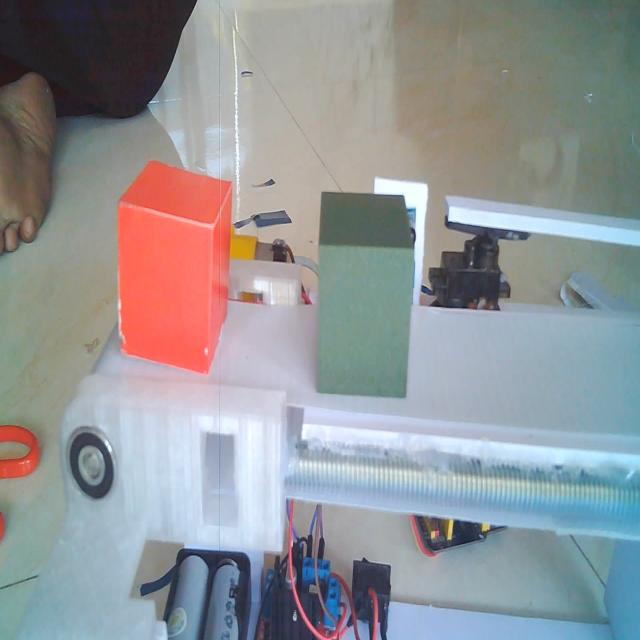green: (312, 177, 414, 410)
red: (115, 154, 238, 376)
